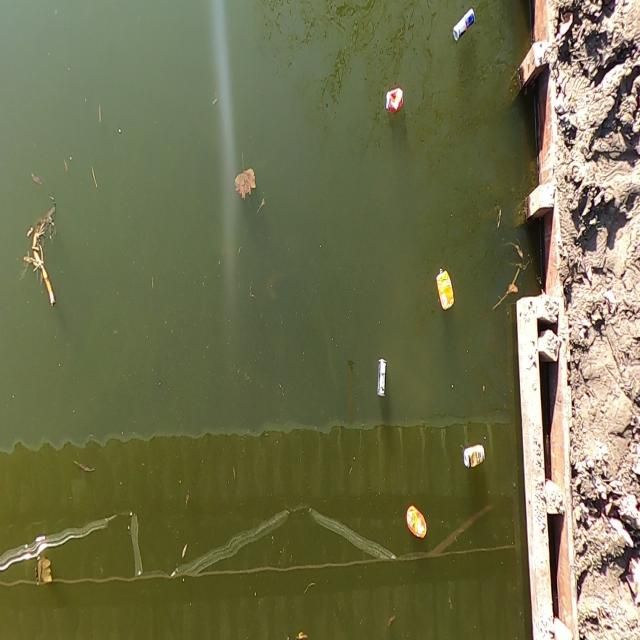Non plastique: (441, 8, 482, 48), (400, 502, 435, 547), (433, 266, 458, 316), (461, 442, 487, 478), (383, 86, 408, 122), (375, 352, 391, 408)
